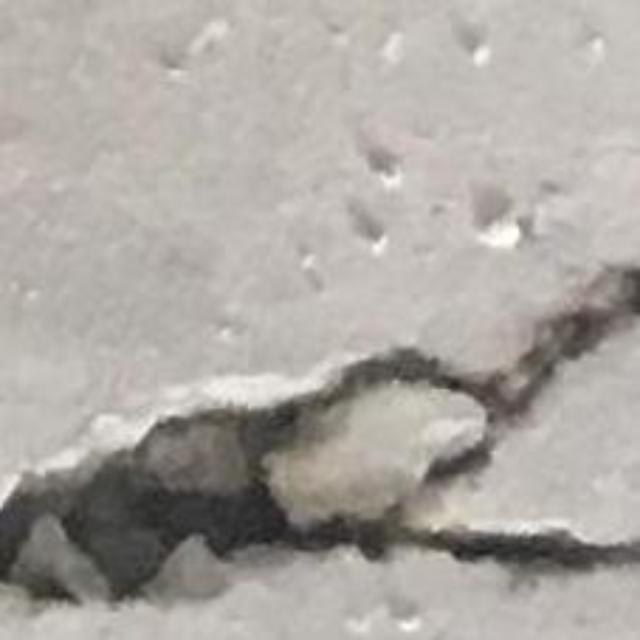crack: (0, 268, 639, 631)
